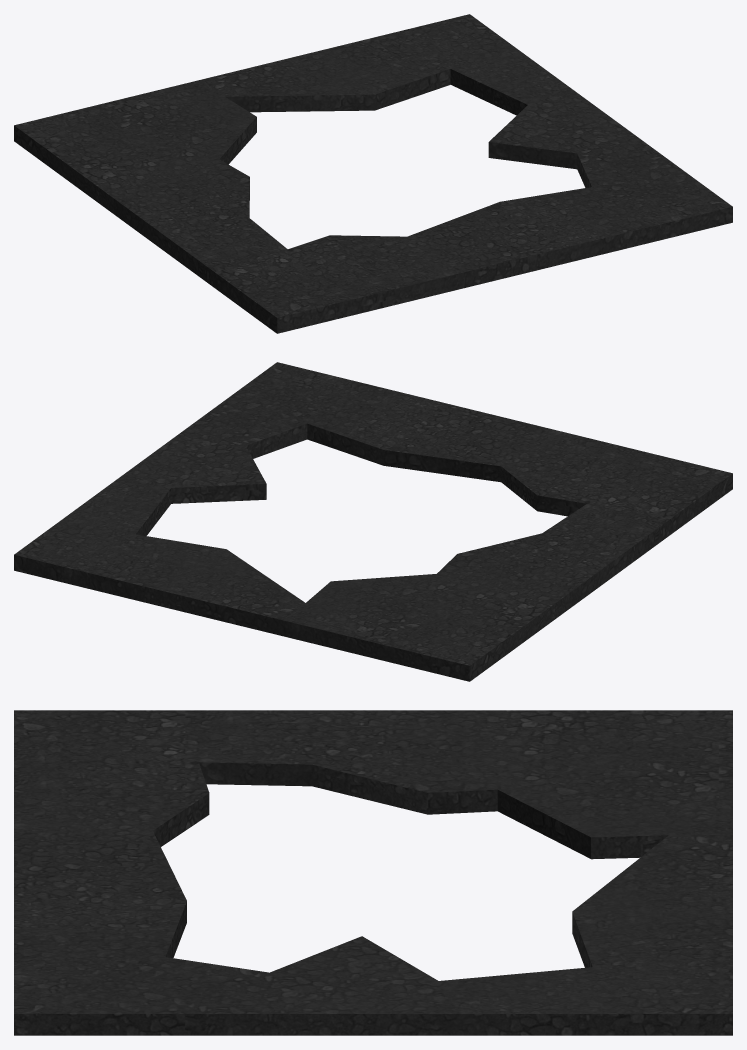
Rendered from roof_flat_destroyed01.fbx.
3 views of the same model, one above another, from view 1: azimuth 30°, elevation 25°; view 2: azimuth 150°, elevation 25°; view 3: azimuth 270°, elevation 25° (orthographic). The views are drawn at different scales.
Visible parts, largest first — view 1: roof_flat_destroyed01; view 2: roof_flat_destroyed01; view 3: roof_flat_destroyed01.
Part boxes in pixels (x1,y1,x2,y2): roof_flat_destroyed01: (14, 14, 732, 333); roof_flat_destroyed01: (14, 362, 732, 681); roof_flat_destroyed01: (14, 710, 732, 1035).
Size of the model in its own units: 300 by 10 by 300.
